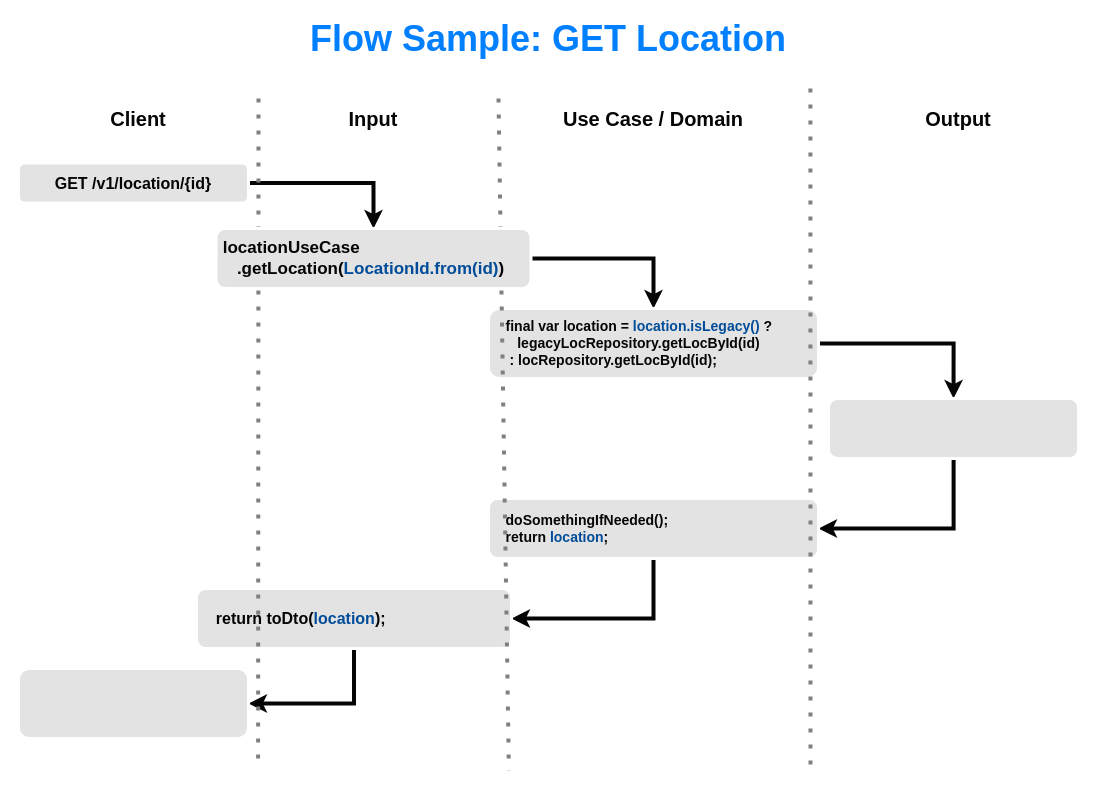
This 1098x791 diagram has some shape labels left out. The shapes that lost their labels are listed below. From the top down, each one's box as (x1, y1, x2, y2) in pixels, then its label:
(826, 396, 1080, 460): "SELECT * FROM location WHERE id = id" return toLocation(locationEntity);
(16, 666, 250, 740): Status Code: 200 OK {"address":"Rua Xpto, "id": .....}
